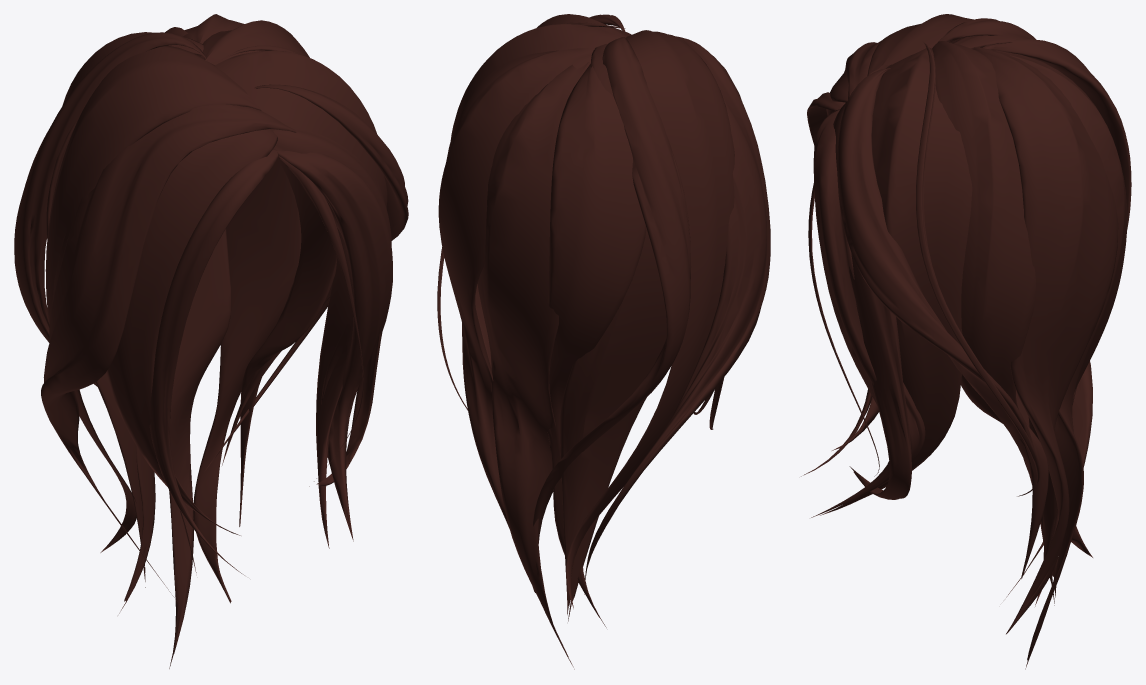
Rendered from hair_long_01.glb.
3 renders of one model, left to right at view 1: azimuth 30°, elevation 25°; view 2: azimuth 150°, elevation 25°; view 3: azimuth 270°, elevation 25°, orthographic. The views are drawn at different scales.
Parts seen in each view (by area): view 1: NurbsPath.034; view 2: NurbsPath.034; view 3: NurbsPath.034.
Part boxes in pixels (bbox=[...]): NurbsPath.034: bbox=[14, 14, 408, 668]; NurbsPath.034: bbox=[437, 14, 770, 669]; NurbsPath.034: bbox=[801, 14, 1131, 669].
Size of the model in its own units: 0.7116 by 1.41 by 0.6625.
